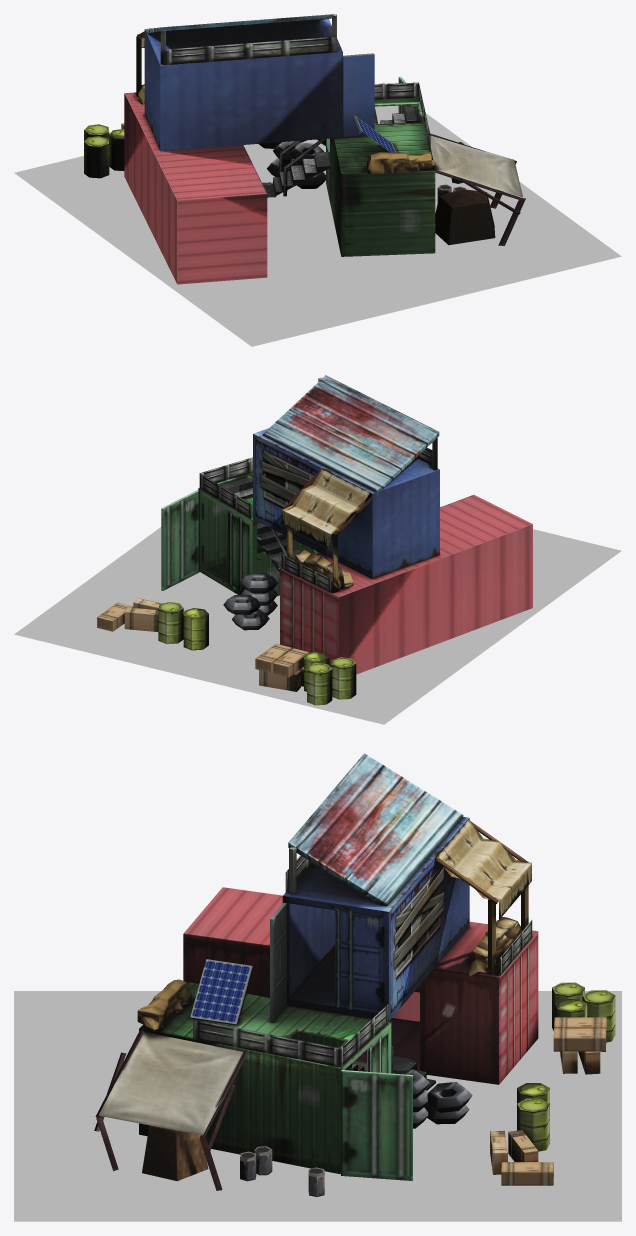
The model's file is zhuangyuan.FBX.
The picture shows the model from 3 angles, top to bottom: view 1: azimuth 30°, elevation 25°; view 2: azimuth 150°, elevation 25°; view 3: azimuth 270°, elevation 25°; orthographic projection. The views are drawn at different scales.
Parts seen in each view (by area): view 1: minju, minju_di; view 2: minju, minju_di; view 3: minju, minju_di.
Boxes of the visible parts, x1=… form: minju: x1=84, y1=14, x2=525, y2=284; minju_di: x1=14, y1=82, x2=621, y2=346; minju: x1=97, y1=375, x2=532, y2=705; minju_di: x1=14, y1=506, x2=621, y2=724; minju: x1=94, y1=753, x2=615, y2=1196; minju_di: x1=14, y1=991, x2=621, y2=1221.
Size of the model in its own units: 168 by 90.59 by 187.
